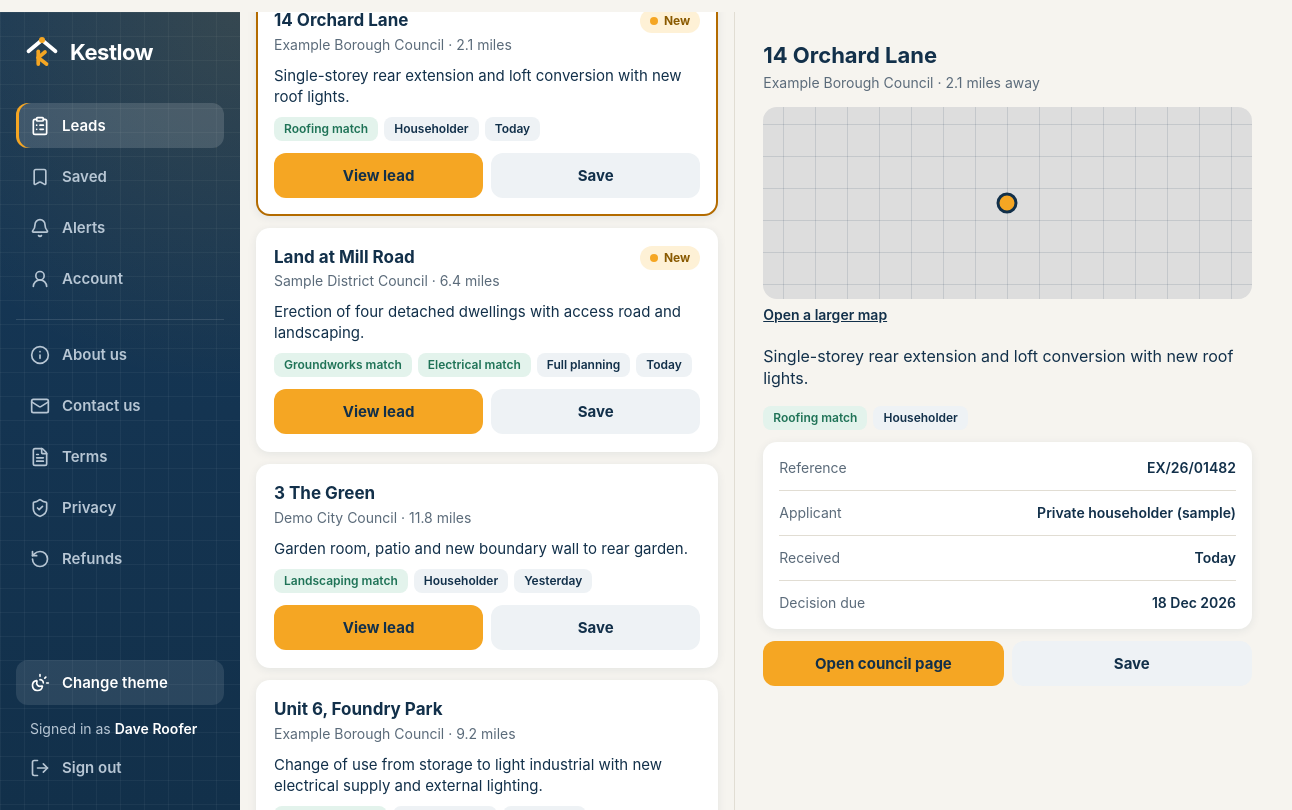
Test: App › opens a lead's details
(page scrolled)
Click the button "View lead" below "Groundworks": (379, 412) [274,389,483,434]
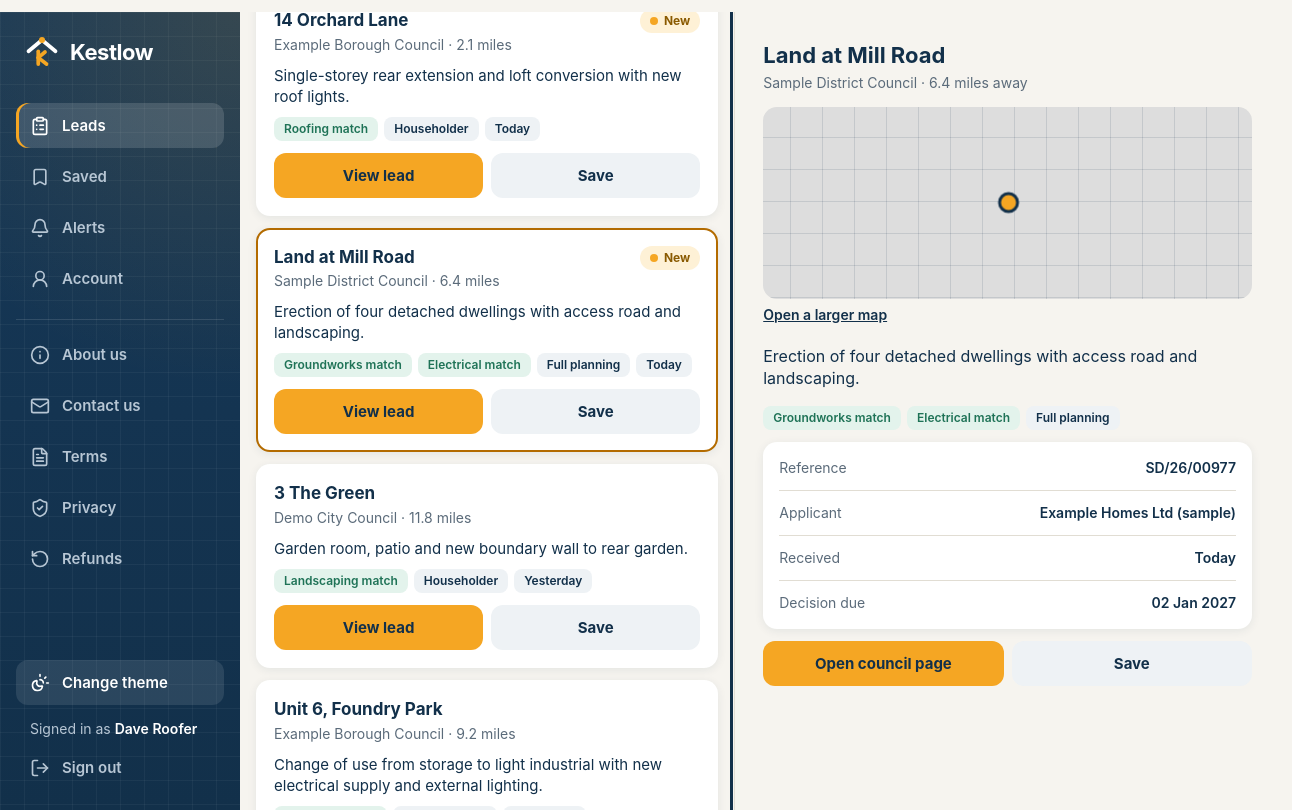
Check: the text "SD/26/00977" is shown, box [1146,458,1236,478]
